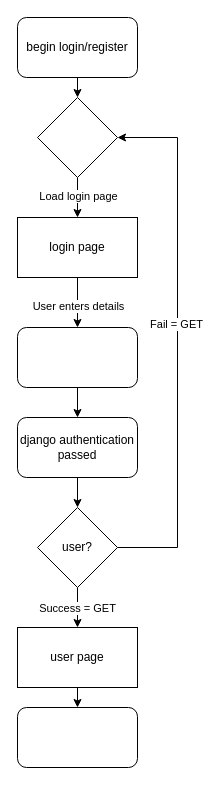
Image size: 220x785. Some labels were removed from this diagram. Here are the shapes that lost their labels. From the top down, the centre of each, then its label:
point 77,137: POST?
point 77,357: login details checked
point 77,737: end login/register
